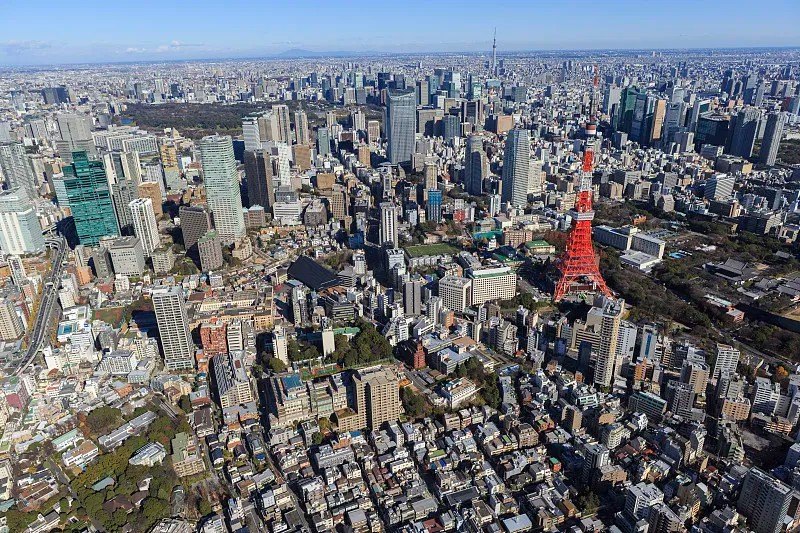Tokyo: (553, 67, 616, 300)
